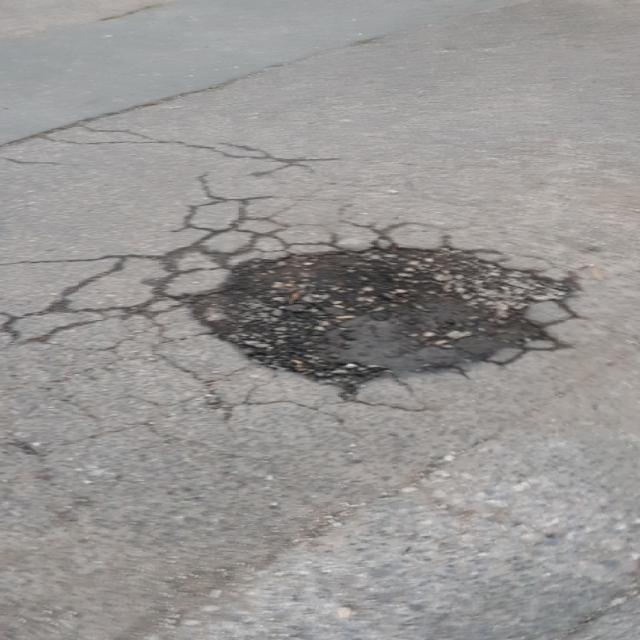Pothole: (191, 238, 586, 392)
